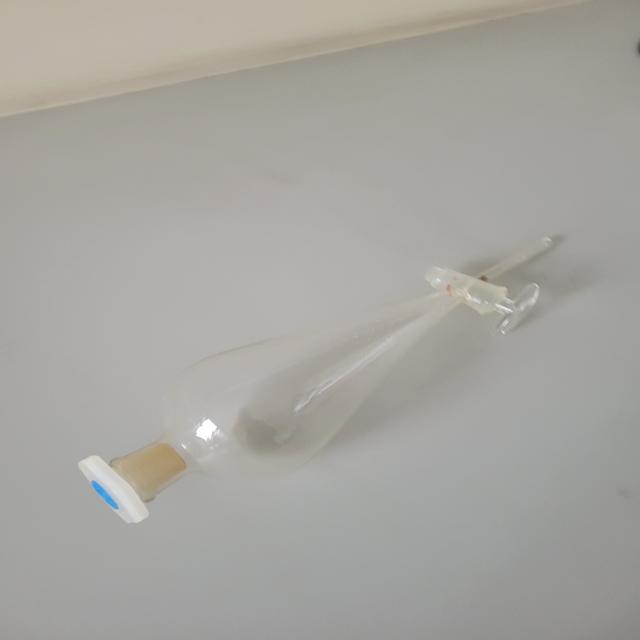Separating_Funnel: (42, 200, 594, 541)
